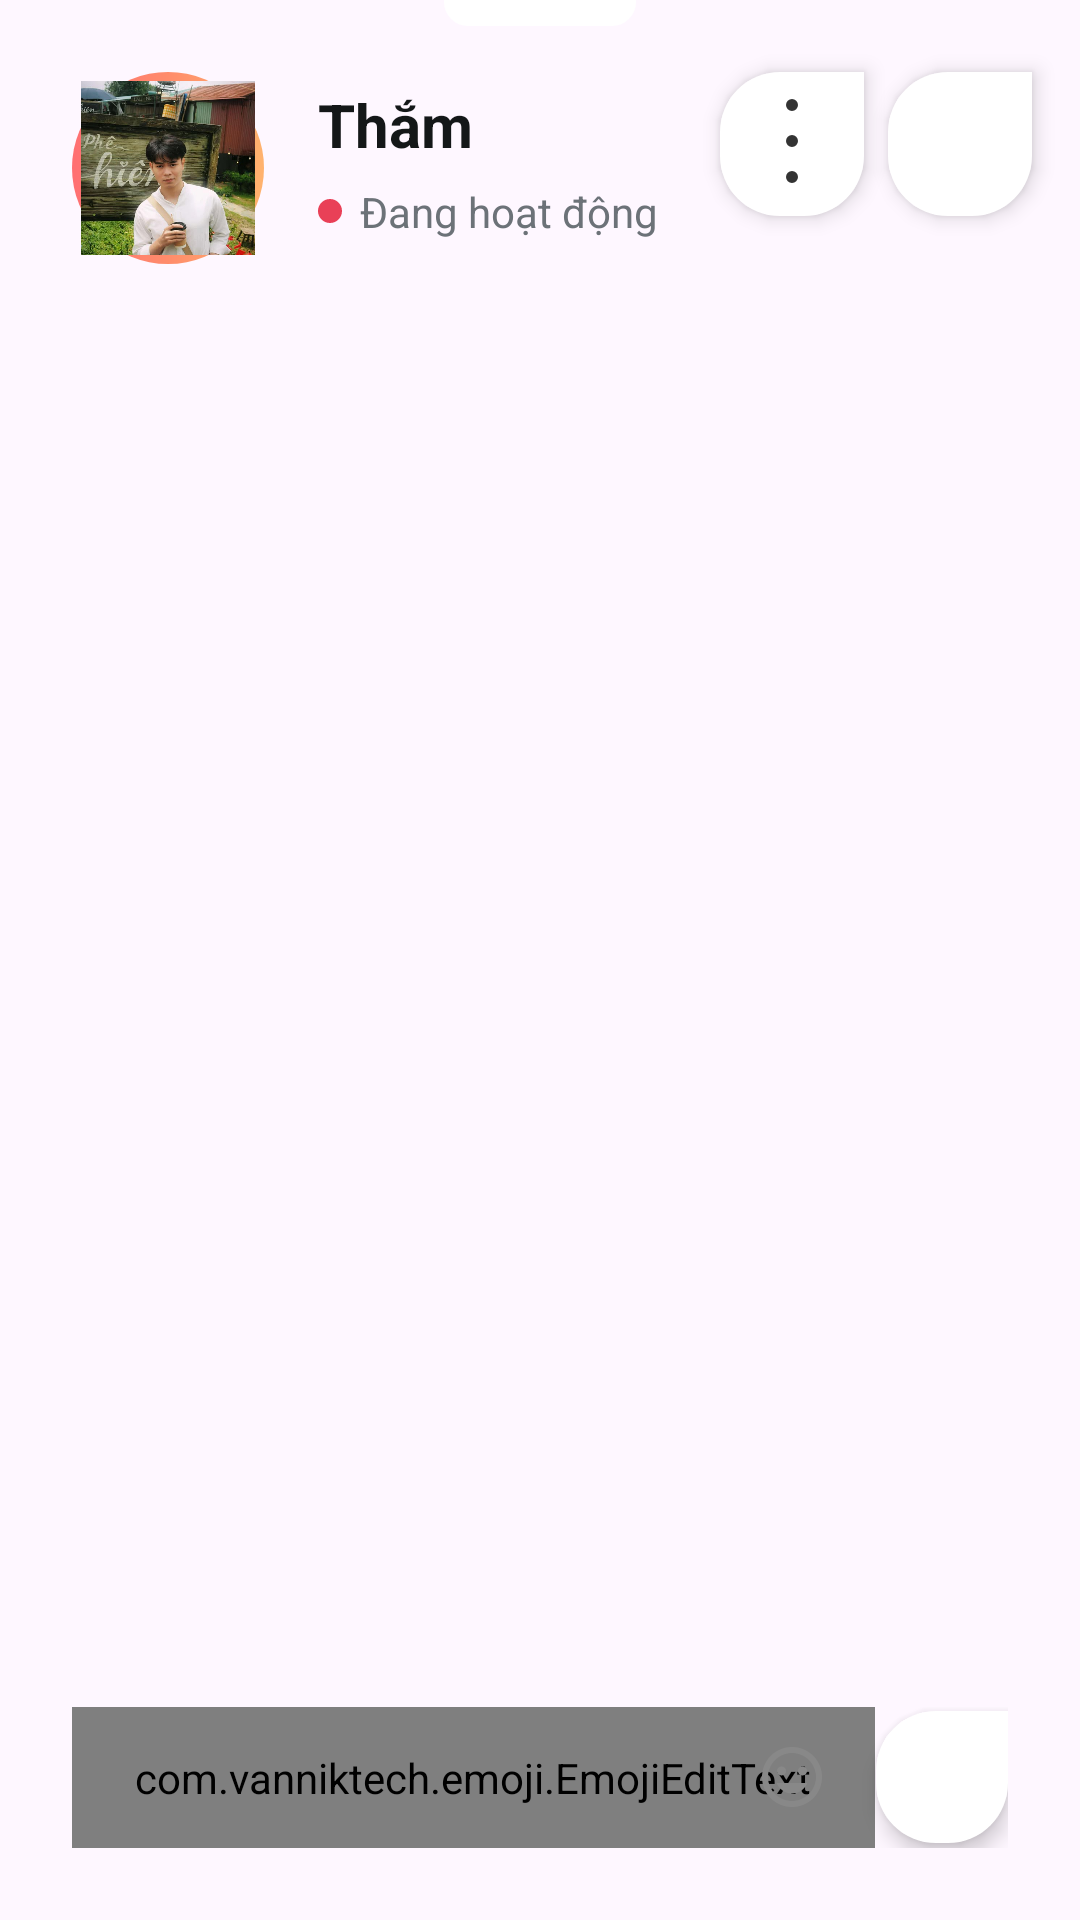

Where to tap for icons on this 1080x1920 app screen, as (x,y):
home more vertical: (792,144)
Ảnh đại diện của người trò chuyện: (168,168)
